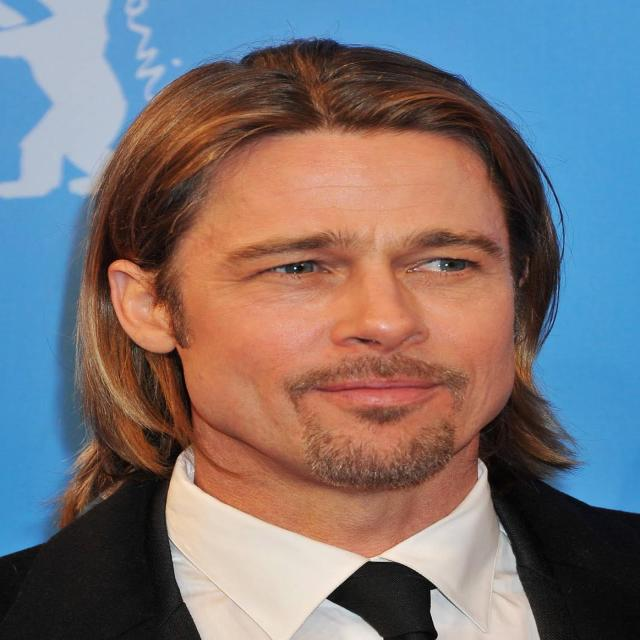no-earmuff: (91, 240, 206, 374)
